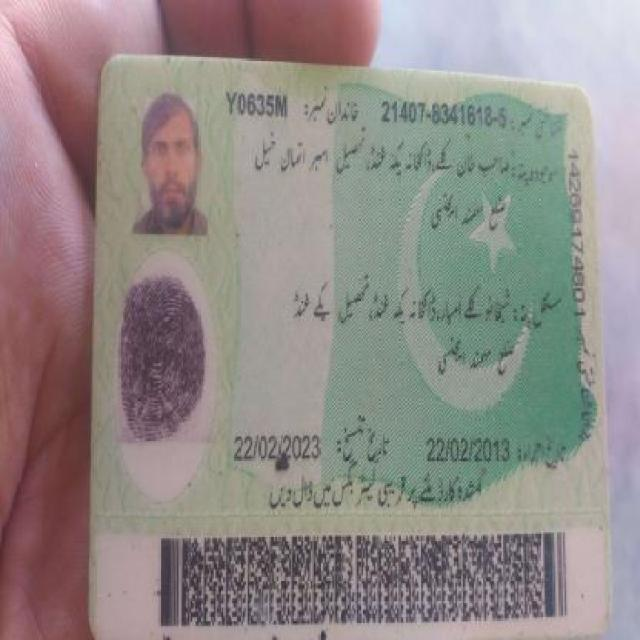Back: (92, 52, 614, 636)
